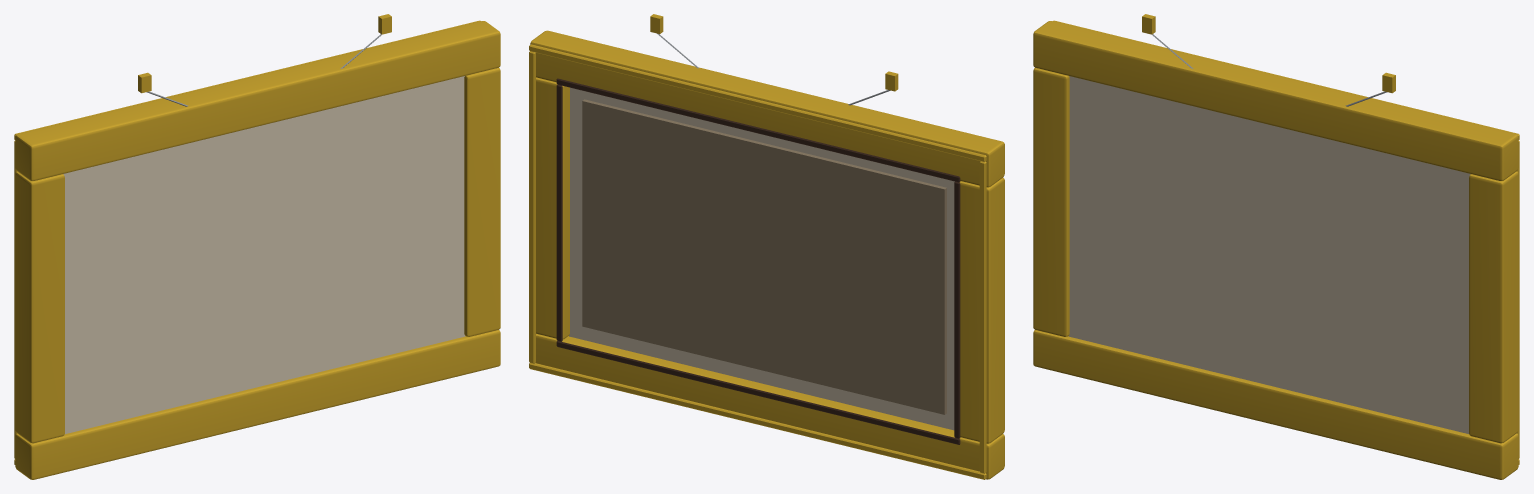
The model's file is prop_canvas_study8.glb.
3 views of the same model, side by side, from view 1: azimuth 30°, elevation 25°; view 2: azimuth 150°, elevation 25°; view 3: azimuth 330°, elevation 25° (orthographic). The views are drawn at different scales.
Parts seen in each view (by area): view 1: Canvas, Hooks; view 2: Paint, Canvas, Hooks; view 3: Canvas, Hooks.
Part boxes in pixels (<box>): Canvas: <box>14,20,500,479</box>; Hooks: <box>138,14,391,106</box>; Paint: <box>582,99,946,414</box>; Canvas: <box>529,30,1004,479</box>; Hooks: <box>650,14,898,105</box>; Canvas: <box>1033,20,1519,479</box>; Hooks: <box>1142,14,1395,106</box>.
Bounding box in the file's own units: 0.94 × 0.72 × 0.068.
